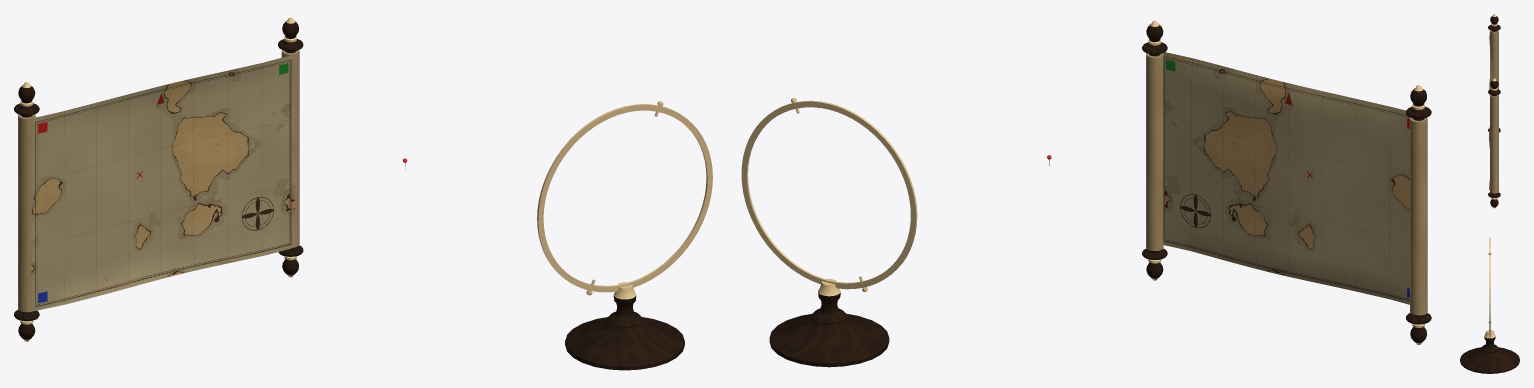
File: map_props.gltf
3 views of the same model, side by side, from view 1: azimuth 30°, elevation 25°; view 2: azimuth 150°, elevation 25°; view 3: azimuth 270°, elevation 25° (orthographic). The views are drawn at different scales.
Visible parts, largest first — view 1: scroll.sheet, globe.stand.mesh, scroll.roller.left, scroll.roller.right, scroll.finial.left.top, scroll.finial.right.top; view 2: scroll.sheet, globe.stand.mesh, scroll.roller.left, scroll.roller.right, scroll.finial.left.top, scroll.finial.right.top; view 3: globe.stand.mesh, scroll.roller.right, scroll.roller.left, scroll.finial.left.top, scroll.finial.right.top, scroll.sheet, scroll.finial.right.bottom.
Part boxes in pixels (box(x1,y1,x2,y2)): scroll.sheet: box(31, 54, 294, 311); globe.stand.mesh: box(537, 101, 712, 370); scroll.roller.left: box(18, 114, 35, 312); scroll.roller.right: box(281, 50, 299, 247); scroll.finial.left.top: box(14, 82, 39, 117); scroll.finial.right.top: box(278, 17, 303, 52); scroll.sheet: box(1163, 52, 1409, 304); globe.stand.mesh: box(741, 98, 917, 367); scroll.roller.left: box(1410, 117, 1427, 315); scroll.roller.right: box(1146, 53, 1163, 251); scroll.finial.left.top: box(1406, 85, 1431, 120); scroll.finial.right.top: box(1142, 21, 1167, 56); globe.stand.mesh: box(1460, 237, 1519, 373); scroll.roller.right: box(1490, 94, 1498, 193); scroll.roller.left: box(1490, 30, 1498, 94); scroll.finial.left.top: box(1488, 14, 1500, 31); scroll.finial.right.top: box(1488, 78, 1500, 95); scroll.sheet: box(1489, 32, 1492, 190); scroll.finial.right.bottom: box(1488, 192, 1500, 208).
Bounding box in the file's own units: 1.57 × 0.8825 × 0.236.
Materials: 5 (3 with a texture image).
